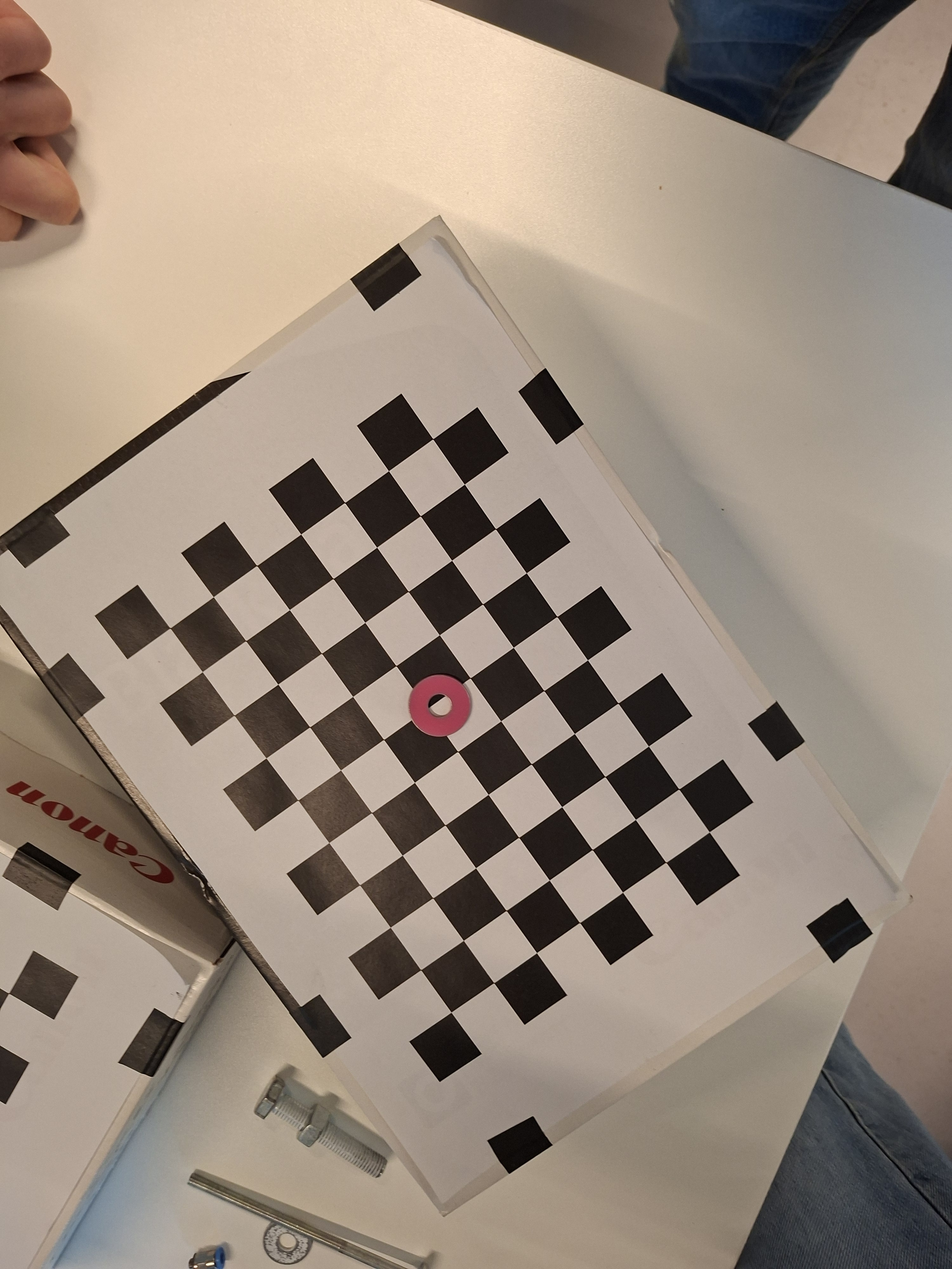washer: (402, 671, 475, 741)
